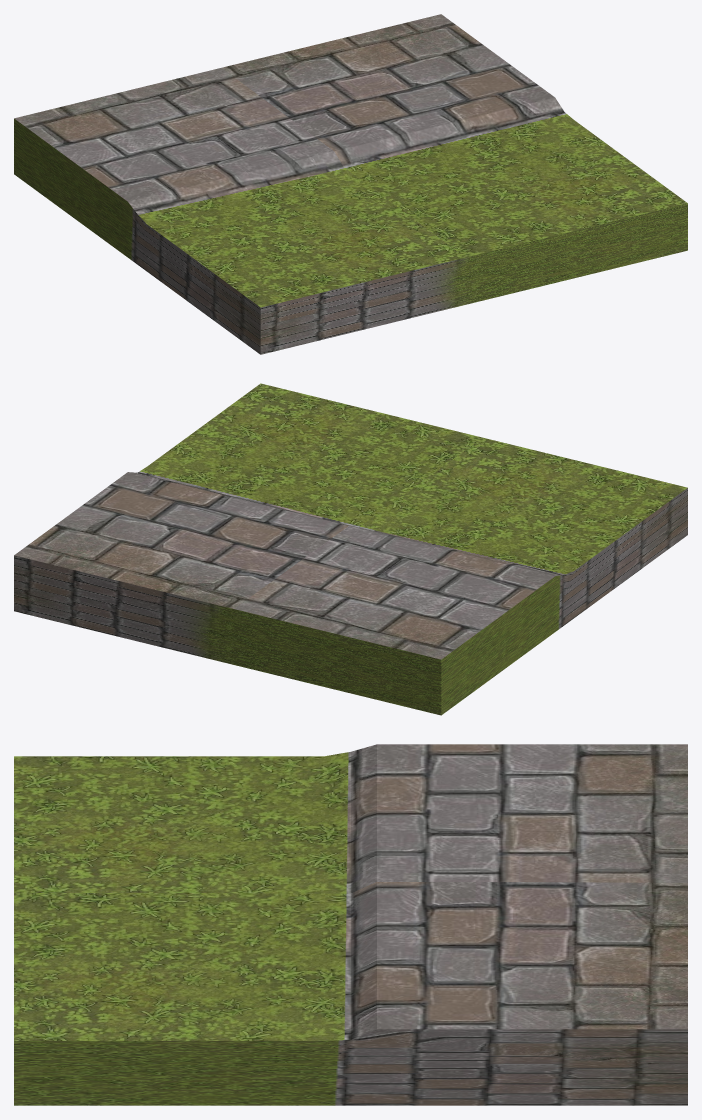
The model's file is ground_stone_to_grass_01.fbx.
3 renders of one model, top to bottom at view 1: azimuth 30°, elevation 25°; view 2: azimuth 150°, elevation 25°; view 3: azimuth 270°, elevation 25°, orthographic. The views are drawn at different scales.
Visible parts, largest first — view 1: 4x4 Dirt to Stone Floor.002; view 2: 4x4 Dirt to Stone Floor.002; view 3: 4x4 Dirt to Stone Floor.002.
Part boxes in pixels (x1,y1,x2,y2): 4x4 Dirt to Stone Floor.002: (14, 14, 687, 354); 4x4 Dirt to Stone Floor.002: (14, 383, 687, 715); 4x4 Dirt to Stone Floor.002: (14, 744, 687, 1105).
Bounding box in the file's own units: 400 × 50 × 400.
Materials: 1 (1 with a texture image).
